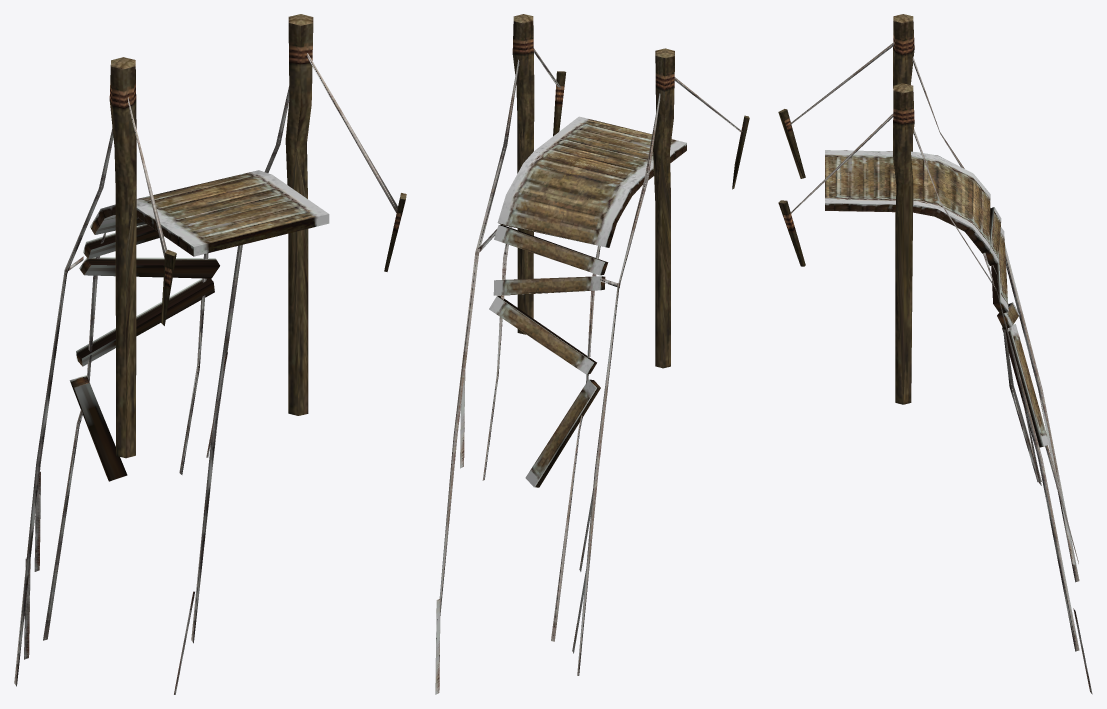
File: general_obj_suspension bridge03_lod_01.fbx
3 renders of one model, left to right at view 1: azimuth 30°, elevation 25°; view 2: azimuth 150°, elevation 25°; view 3: azimuth 270°, elevation 25°, orthographic. The views are drawn at different scales.
Visible parts, largest first — view 1: general_obj_suspension bridge01; view 2: general_obj_suspension bridge01; view 3: general_obj_suspension bridge01.
Boxes of the visible parts, box(x1,y1,x2,y2) form: general_obj_suspension bridge01: box(14, 14, 406, 694); general_obj_suspension bridge01: box(435, 14, 749, 694); general_obj_suspension bridge01: box(778, 14, 1092, 694).
Size of the model in its own units: 5.63 by 17.01 by 7.91.
